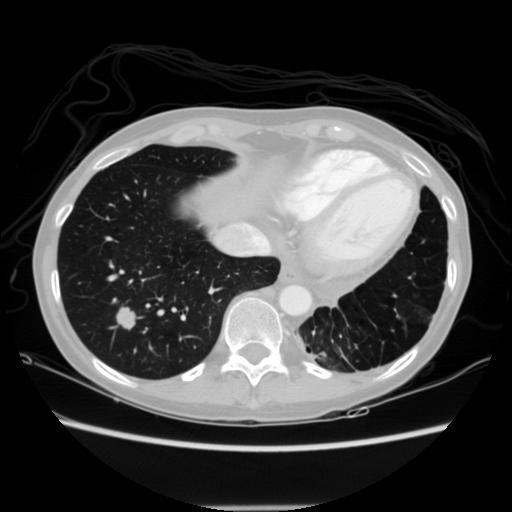nodule: (113, 305, 139, 331)
